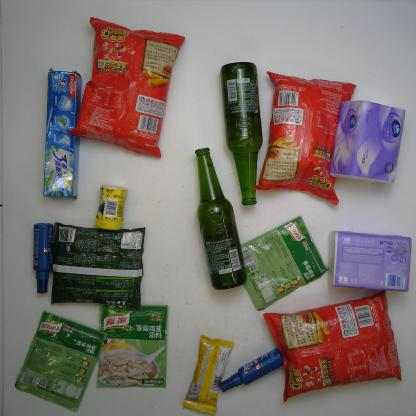Alcohol: (193, 147, 249, 292), (222, 60, 265, 208)
Chocolate: (178, 334, 239, 414)
Gum: (91, 183, 130, 232)
Instant Noodles: (45, 222, 149, 312)
Personal Hygiene: (40, 65, 83, 202), (218, 349, 286, 397), (30, 222, 56, 298)
Puffed Food: (63, 16, 187, 159), (262, 289, 403, 406), (250, 70, 357, 206)
Seasoner: (13, 308, 109, 412), (237, 215, 331, 312), (96, 303, 169, 389)
Tissue: (330, 98, 408, 186), (332, 230, 412, 293)
